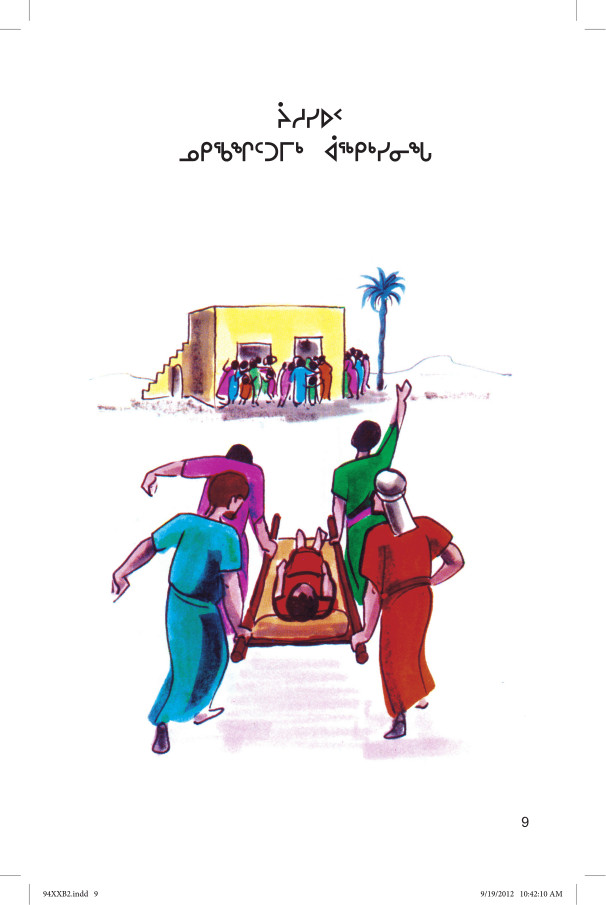inuktitut: (171, 130, 439, 166), (269, 93, 347, 129)
